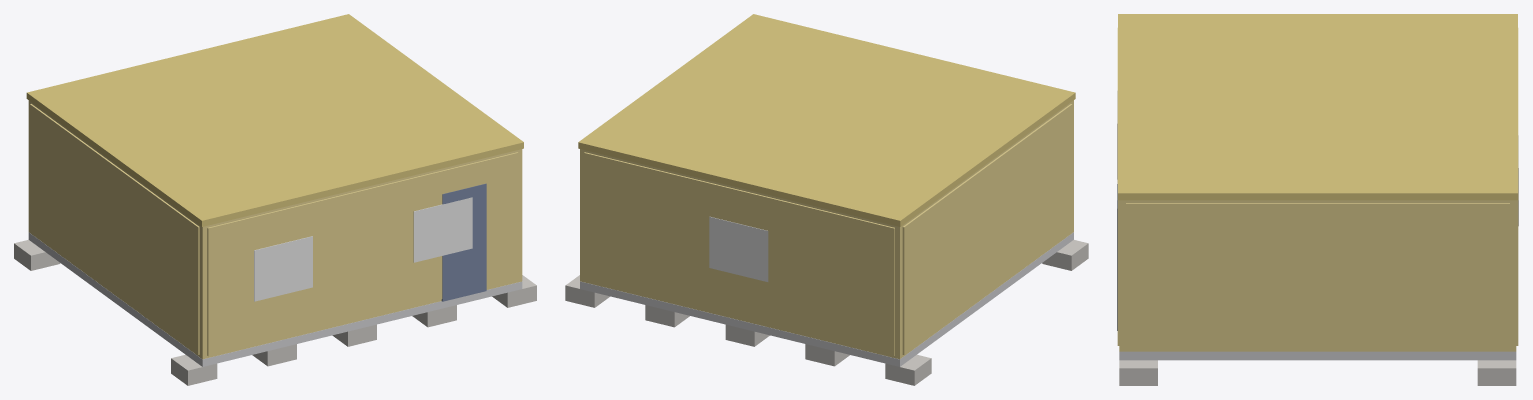
File: Studio-20-Base-DesertYellow-LOD3.glb
3 renders of one model, left to right at view 1: azimuth 30°, elevation 25°; view 2: azimuth 150°, elevation 25°; view 3: azimuth 270°, elevation 25°, orthographic. The views are drawn at different scales.
Parts seen in each view (by area): view 1: RoofMain, ExteriorPanelsStandard, WindowsStandard, FoundationBlocks, ExteriorShell, BaseFrame, EntryDoor; view 2: ExteriorPanelsStandard, RoofMain, FoundationBlocks, BaseFrame, ExteriorShell, WindowsStandard; view 3: RoofMain, ExteriorPanelsStandard, ExteriorShell, BaseFrame, FoundationBlocks.
Part boxes in pixels (x1=…): RoofMain: x1=26, y1=14, x2=523, y2=226; ExteriorPanelsStandard: x1=30, y1=104, x2=518, y2=355; WindowsStandard: x1=254, y1=197, x2=472, y2=301; FoundationBlocks: x1=14, y1=240, x2=536, y2=385; ExteriorShell: x1=28, y1=100, x2=522, y2=359; BaseFrame: x1=28, y1=232, x2=522, y2=366; EntryDoor: x1=441, y1=183, x2=486, y2=301; ExteriorPanelsStandard: x1=584, y1=104, x2=1072, y2=355; RoofMain: x1=578, y1=14, x2=1075, y2=226; FoundationBlocks: x1=565, y1=240, x2=1088, y2=385; BaseFrame: x1=580, y1=232, x2=1073, y2=366; ExteriorShell: x1=580, y1=100, x2=1073, y2=359; WindowsStandard: x1=709, y1=216, x2=768, y2=281; RoofMain: x1=1118, y1=14, x2=1517, y2=200; ExteriorPanelsStandard: x1=1117, y1=28, x2=1518, y2=349; ExteriorShell: x1=1119, y1=200, x2=1516, y2=351; BaseFrame: x1=1119, y1=351, x2=1516, y2=360; FoundationBlocks: x1=1119, y1=360, x2=1516, y2=385.
Bounding box in the file's own units: 7.14 × 3.17 × 6.24.
